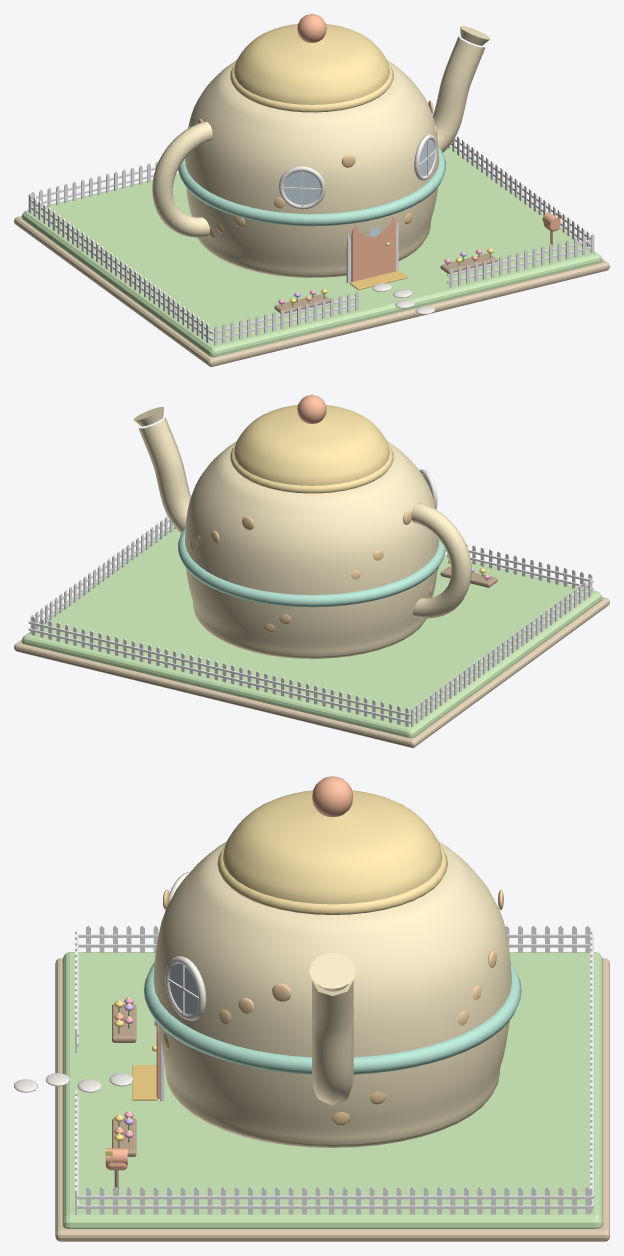
Rendered from building_kitchen_L07.glb.
The picture shows the model from 3 angles, top to bottom: view 1: azimuth 30°, elevation 25°; view 2: azimuth 150°, elevation 25°; view 3: azimuth 270°, elevation 25°; orthographic projection. The views are drawn at different scales.
Visible parts, largest first — view 1: kitchen_L7; view 2: kitchen_L7; view 3: kitchen_L7.
Part boxes in pixels (x1=…): kitchen_L7: x1=14, y1=14, x2=609, y2=366; kitchen_L7: x1=14, y1=395, x2=609, y2=747; kitchen_L7: x1=14, y1=776, x2=609, y2=1241.
Size of the model in its own units: 26.61 by 14.72 by 24.29.
